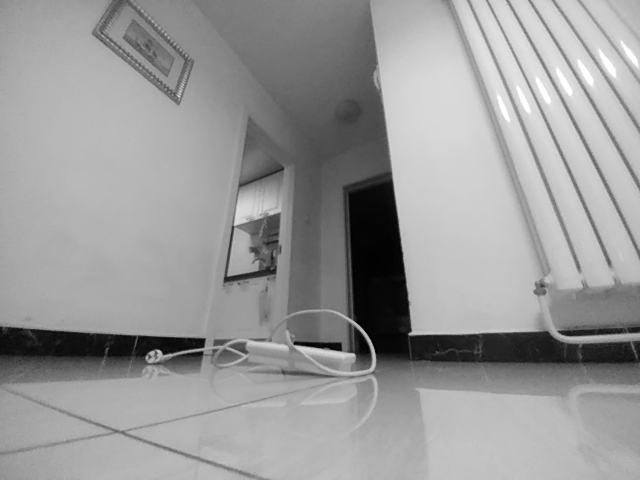power strip: (245, 340, 355, 377)
wire: (145, 331, 245, 368)
